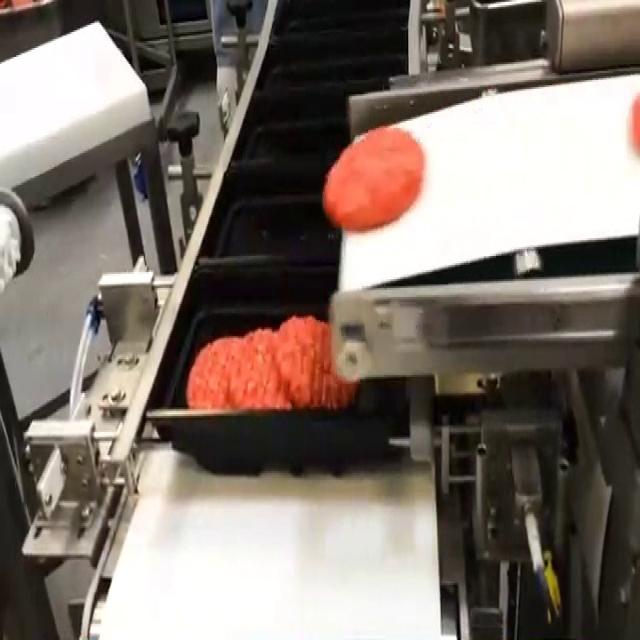hamburguer: (323, 126, 425, 231)
